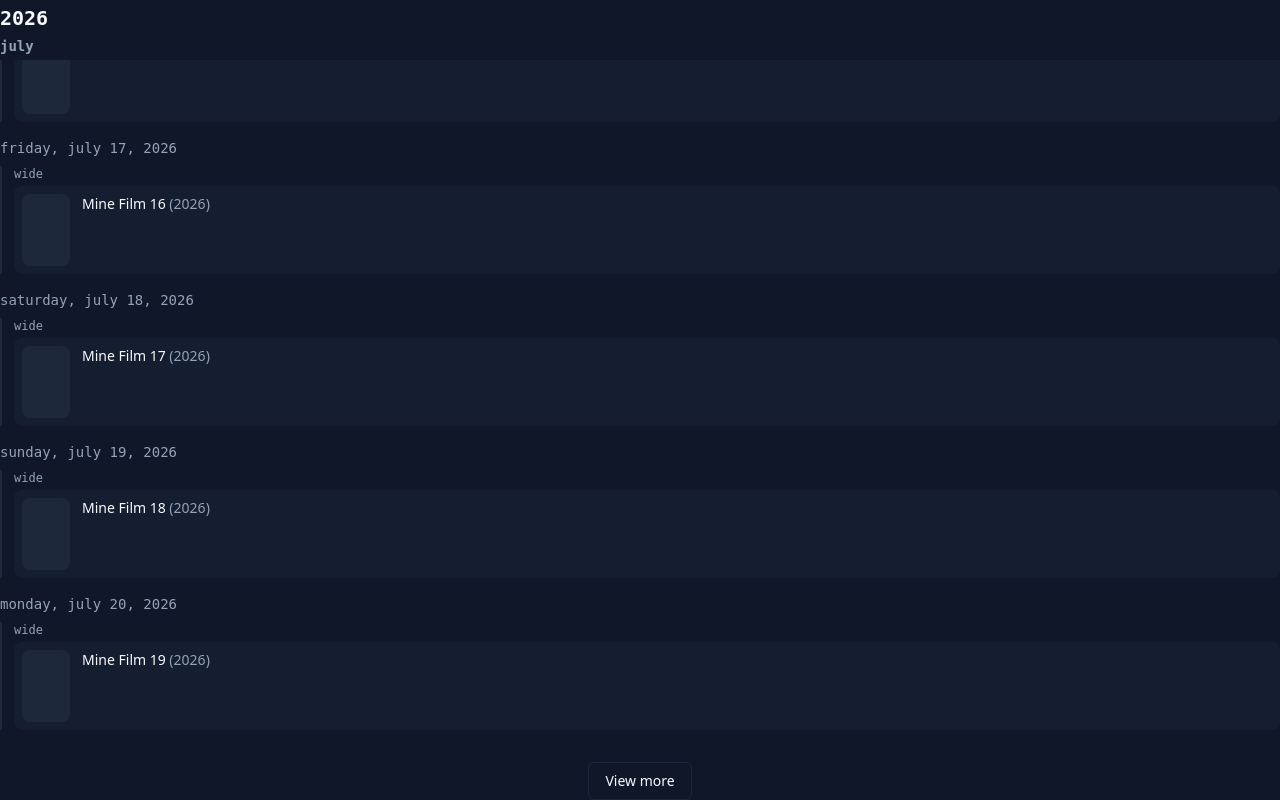
Test: calendar view — entitled › pages My films by date, from the count of dates already on screen
(page scrolled)
Check: the text "Mine Film 20" is not shown
What coordinates should you click on to do the following:
click the button "View more"
I would click on:
 (640, 781)
Its box is [588,762,692,799].
(page scrolled)
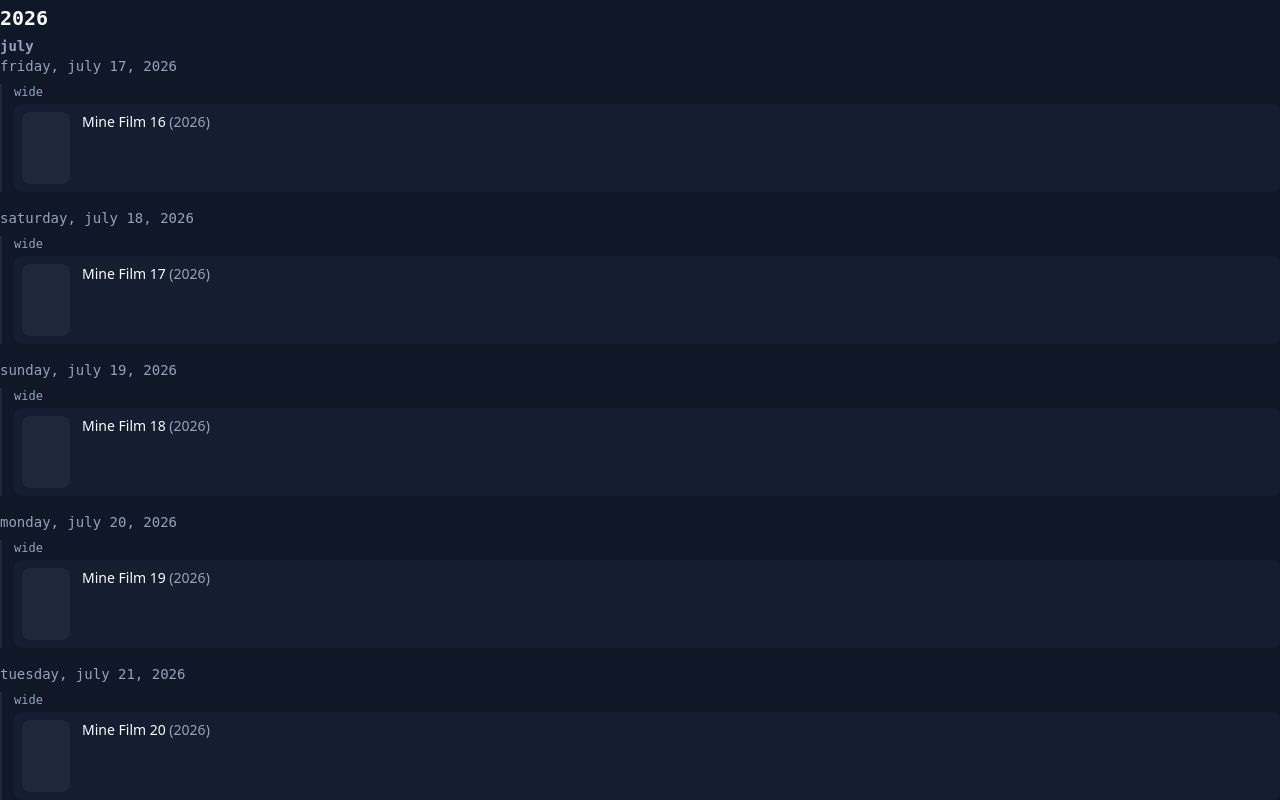
Check: the text "Mine Film 20" is shown, box [82,720,166,739]
